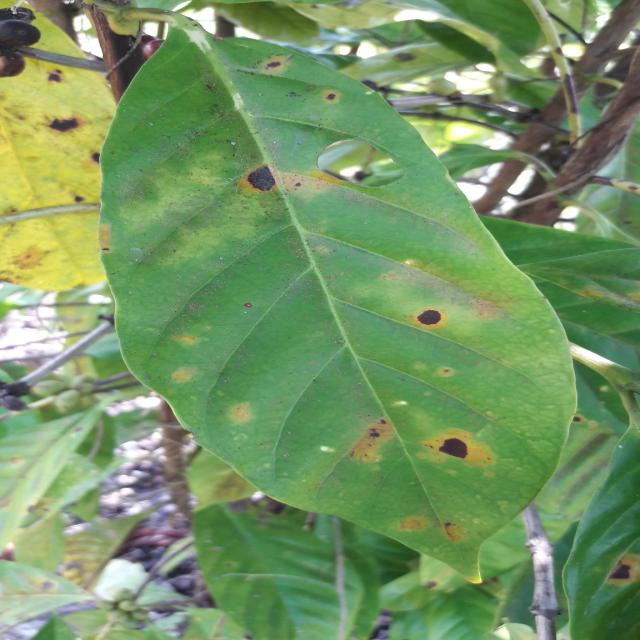Plaga-AranaRoja: (97, 16, 578, 578)
